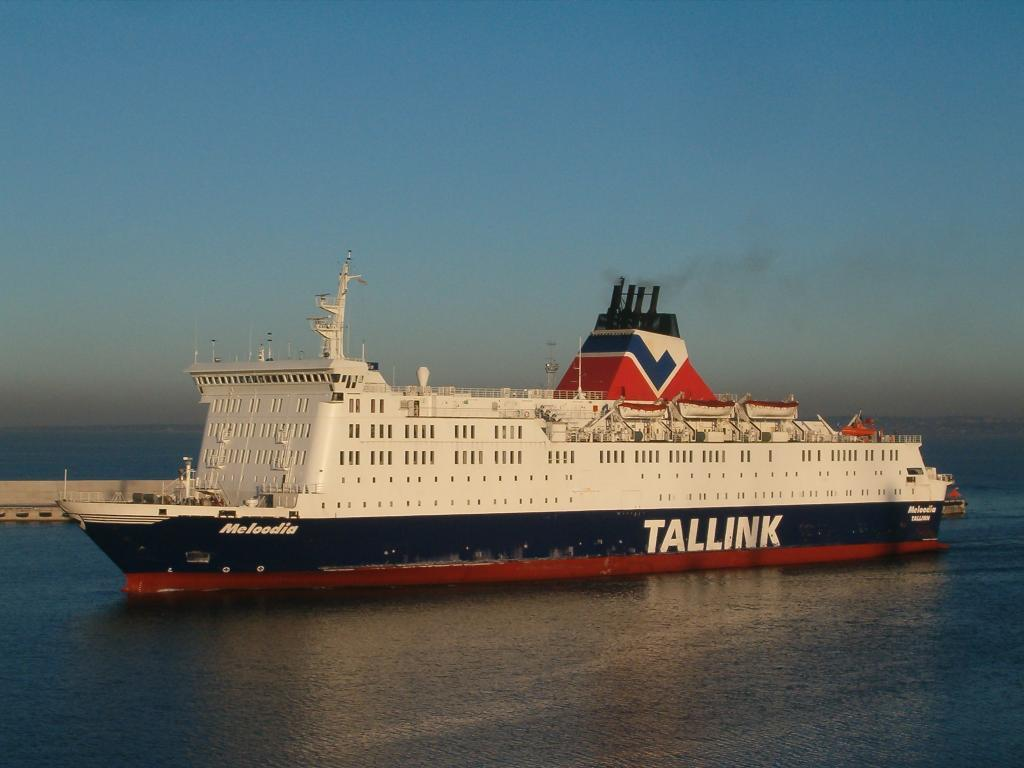youlun: (35, 258, 966, 628)
